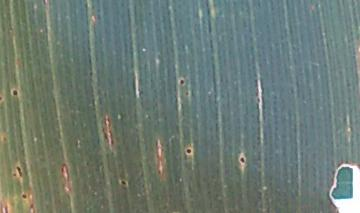tarspot: (13, 163, 27, 181), (8, 87, 22, 99), (183, 144, 194, 158), (118, 178, 131, 189), (18, 191, 31, 202), (176, 76, 188, 87), (239, 153, 247, 166)
